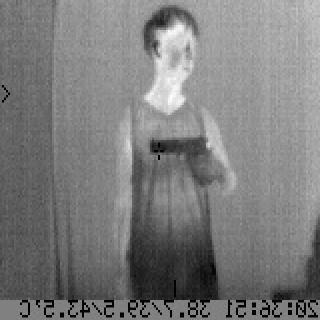Gun: (148, 135, 214, 190)
